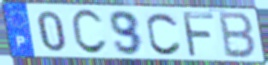0: (35, 10, 69, 53)
9: (107, 9, 146, 57)
B: (218, 10, 258, 61)
C: (69, 8, 110, 57), (145, 11, 184, 57)
F: (180, 10, 217, 59)
